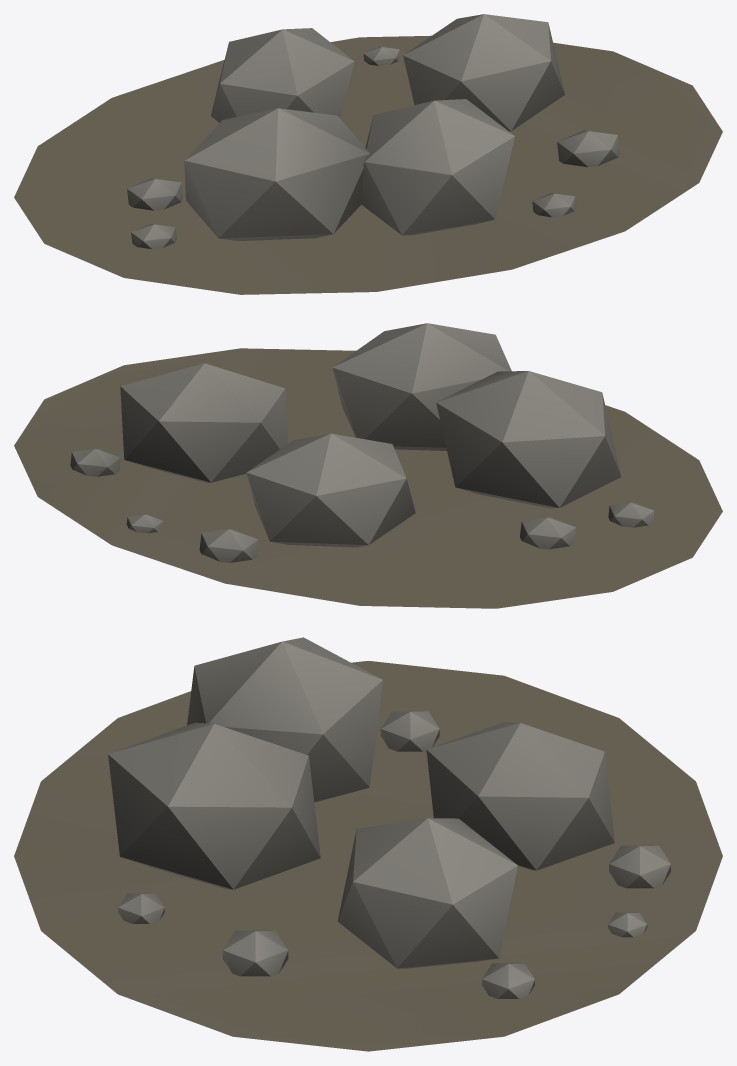
The model's file is struct_rock_xeriscape.glb.
3 renders of one model, top to bottom at view 1: azimuth 30°, elevation 25°; view 2: azimuth 150°, elevation 25°; view 3: azimuth 270°, elevation 25°, orthographic. The views are drawn at different scales.
Visible parts, largest first — view 1: gravel, rocks; view 2: gravel, rocks; view 3: gravel, rocks.
Boxes of the visible parts, x1,y1,x2,y2 form: gravel: (14,35,722,294); rocks: (127,14,619,249); gravel: (14,348,722,608); rocks: (70,323,654,562); gravel: (14,661,722,1051); rocks: (108,637,670,998).
Size of the model in its own units: 3 by 0.6091 by 2.3.
